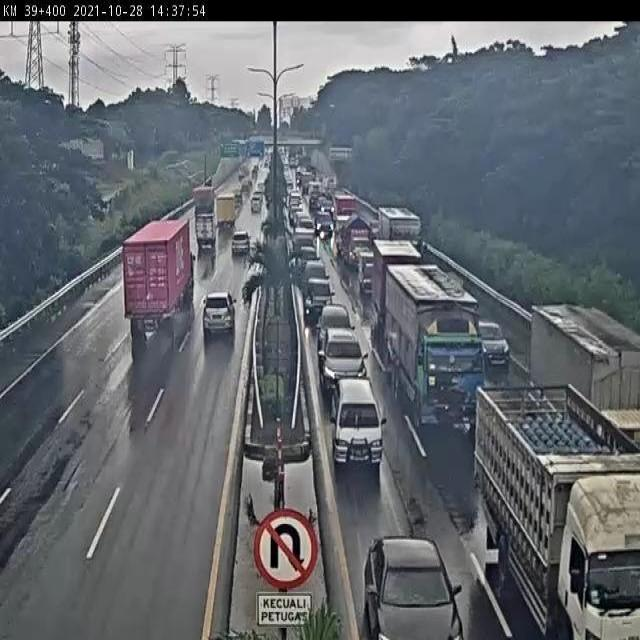Car: (362, 534, 464, 639), (331, 380, 385, 470), (318, 327, 366, 405), (475, 300, 513, 376), (202, 290, 235, 340), (302, 267, 332, 322), (327, 145, 355, 185), (242, 260, 266, 306), (240, 153, 261, 184), (314, 208, 334, 239), (288, 254, 308, 284), (282, 206, 296, 248), (231, 230, 251, 256), (359, 259, 373, 296), (298, 242, 318, 265), (314, 195, 334, 218), (297, 213, 314, 236), (282, 165, 294, 193), (307, 180, 322, 202), (288, 194, 302, 217), (329, 148, 352, 161), (295, 166, 308, 188), (250, 192, 263, 212), (248, 257, 264, 273), (322, 175, 336, 192), (266, 149, 276, 172), (369, 220, 381, 239), (288, 153, 300, 170), (281, 146, 291, 166), (304, 165, 316, 180), (264, 191, 272, 211), (261, 152, 270, 169), (238, 168, 248, 181)
Truck: (472, 385, 635, 639), (380, 262, 485, 439), (533, 292, 640, 413), (126, 222, 196, 346), (377, 207, 422, 246), (192, 185, 217, 252), (216, 192, 237, 233)
